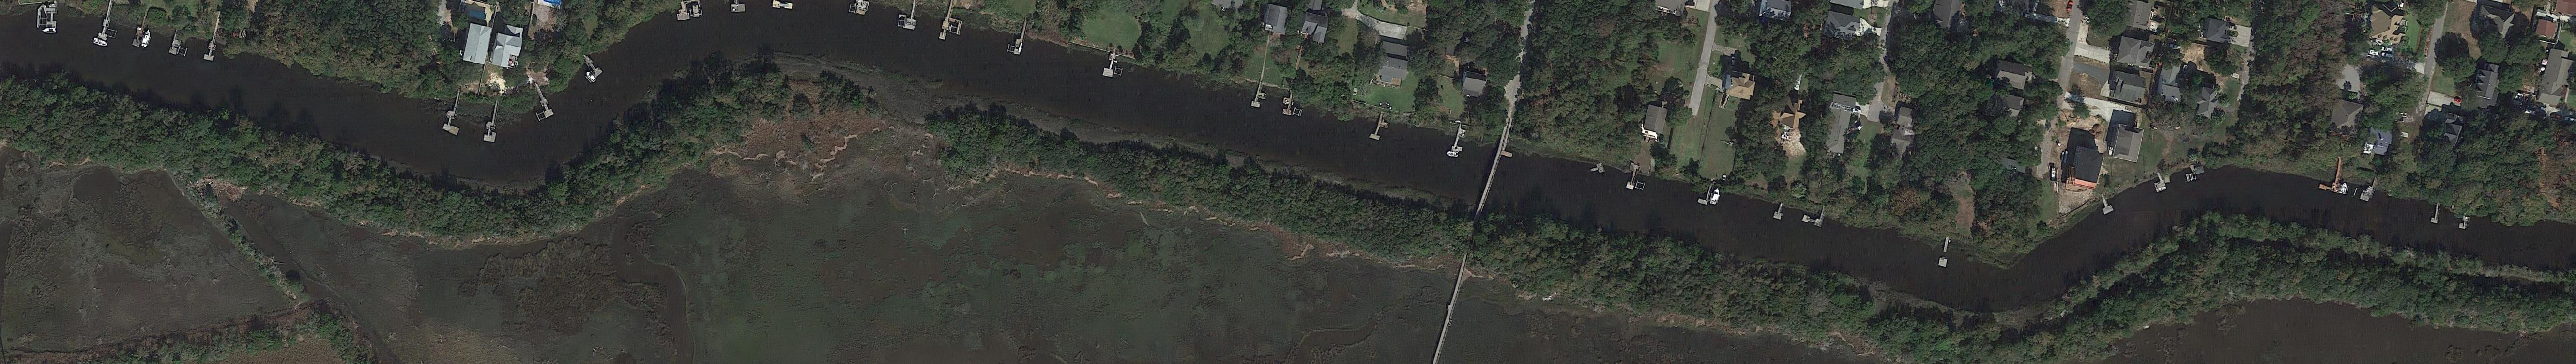harbor: (938, 0, 971, 44), (442, 89, 470, 137), (526, 81, 555, 122), (97, 2, 125, 43), (2320, 155, 2348, 194), (1007, 16, 1030, 56), (483, 100, 503, 143), (895, 0, 923, 30), (2359, 171, 2382, 204), (169, 28, 192, 59), (1370, 110, 1391, 143), (1802, 201, 1827, 229), (36, 2, 59, 31), (1250, 81, 1272, 110), (674, 2, 703, 23), (131, 13, 149, 48), (580, 53, 603, 77), (1451, 125, 1469, 155), (1280, 89, 1298, 117), (204, 33, 220, 63), (1102, 51, 1119, 79), (1697, 181, 1715, 206), (2150, 171, 2169, 193), (2098, 193, 2114, 216), (849, 0, 871, 15), (1626, 168, 1640, 191), (1773, 201, 1787, 221), (2431, 201, 2443, 224), (2459, 212, 2471, 231), (731, 0, 746, 12)
ship: (1709, 186, 1722, 206), (141, 28, 153, 48), (94, 36, 110, 48), (41, 26, 57, 35), (585, 71, 596, 82), (2339, 183, 2349, 194), (1446, 152, 1459, 158)
